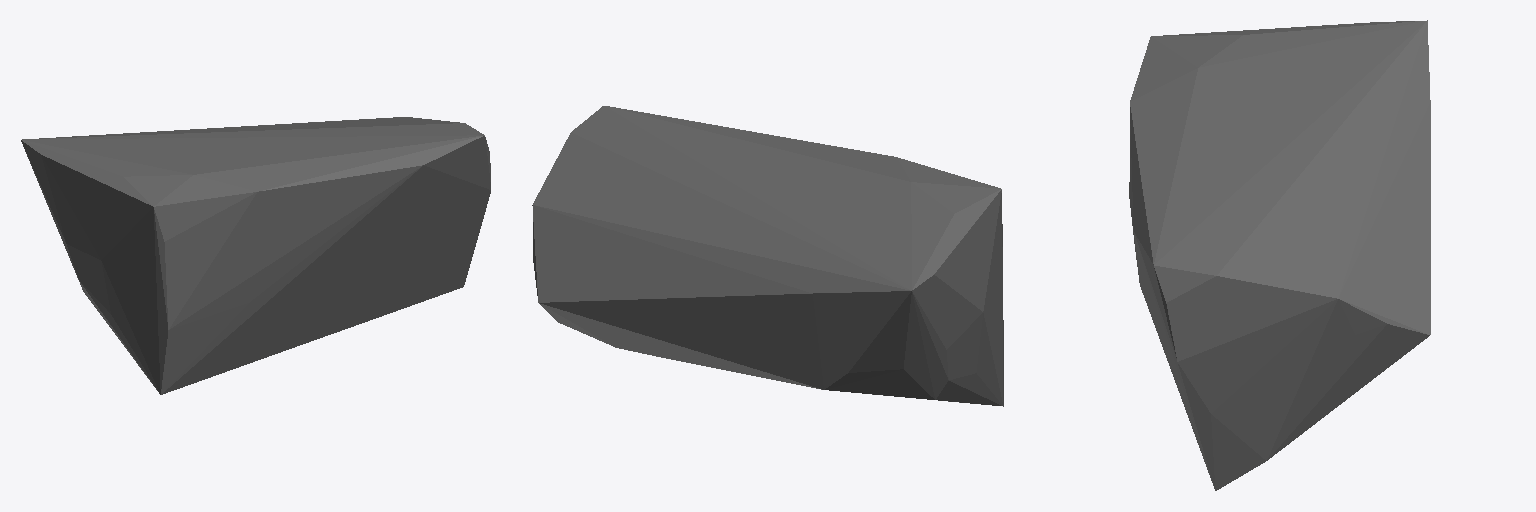
robot.urdf — 15_854:
<?xml version="1.0"?>
<robot name="15_854">
  <link name="link">
    <contact>
      <lateral_friction value="0.6"/>
    </contact>
    <inertial>
      <mass value = "0.5002482208507539"/>
      <inertia ixx="0.00017968613202128683" ixy="-1.2034463605951756e-05" ixz="-1.9356962850660807e-05" iyy="0.0004680784491963126" iyz="9.765355379944375e-06" izz="0.0004965888202134415" />
    </inertial>
    <visual name="visual">
      <geometry>
        <mesh filename="15_854.obj"/>
      </geometry>
      <material name="material">
        <color rgba="0.4594110111133568 0.4594110111133568 0.4594110111133568 1.0"/>
      </material>
    </visual>
    <collision name="collision">
      <geometry>
        <mesh filename="15_854.obj"/>
      </geometry>
    </collision>
  </link>
</robot>

--- Facts derived from the render (not from the file) ---
3 views of the same robot in one strip: view 1: azimuth 30°, elevation 25°; view 2: azimuth 150°, elevation 25°; view 3: azimuth 270°, elevation 25° (orthographic).
Model 15_854 with 1 links and 0 joints (none), rooted at link, posed all joints at 0.
Links seen in each view (by area): view 1: link; view 2: link; view 3: link.
Link boxes in pixels (box(x1,y1,x2,y2)): link: box(21, 117, 490, 394); link: box(532, 106, 1003, 406); link: box(1129, 20, 1430, 490).
Size in the robot's own frame: 0.1106 by 0.0577 by 0.0535 metres.
1 mesh visuals loaded from 1 distinct referenced files (1 OBJ).
